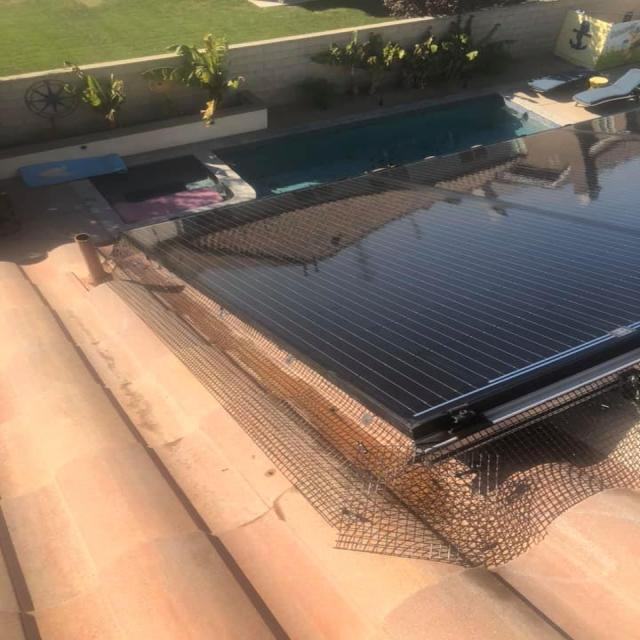clean-solar-panel: (147, 112, 637, 436)
